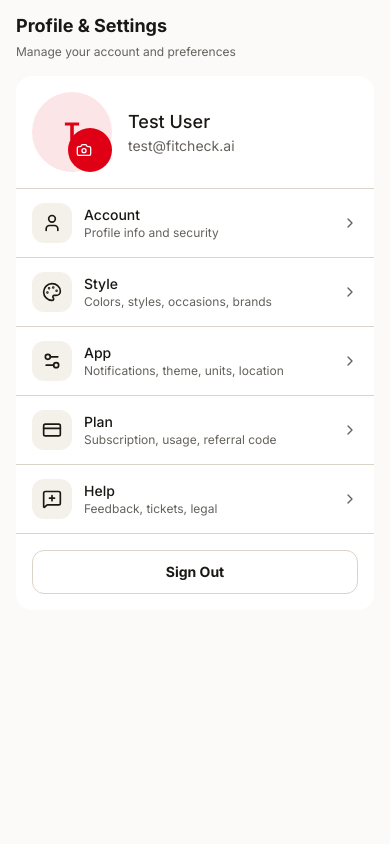
Test: ProfilePage mobile drill-down (<md, no matchMedia) › drills into the Account subpage and back
The image size is (390, 844).
What coordinates should you click on to do the following:
click the button "Account Profile info and security"
I would click on:
 (195, 223)
Its box is [16,189,374,257].
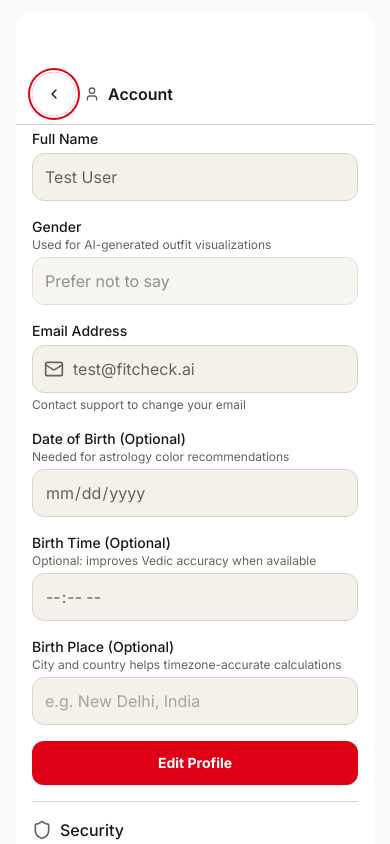
Check: the button named "Back to profile settings" is shown
Check: the heading "Account" is shown, box [84,84,173,104]
What coordinates should you click on to do the following:
click the button named "Back to profile settings"
I would click on:
 (54, 94)
Its box is [32,72,76,116].
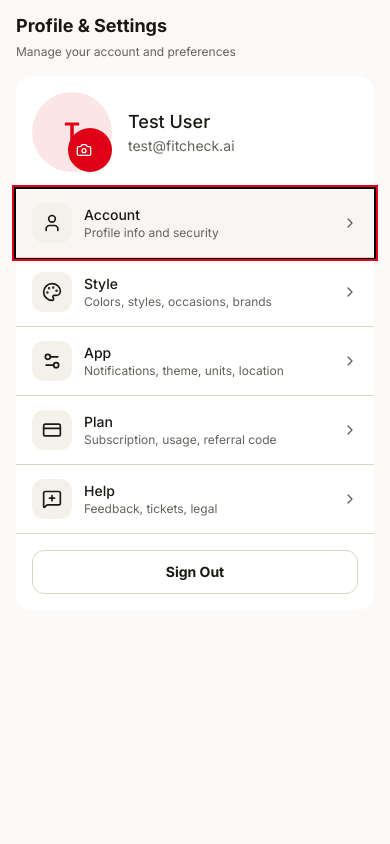
Check: the navigation bar named "Profile sections" is shown, box [16,189,374,533]
